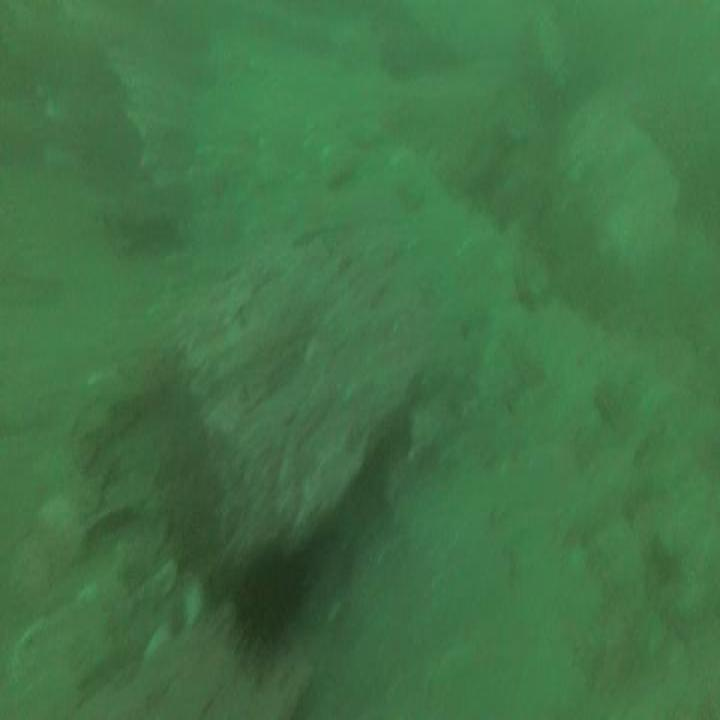echinus: (235, 562, 303, 650)
